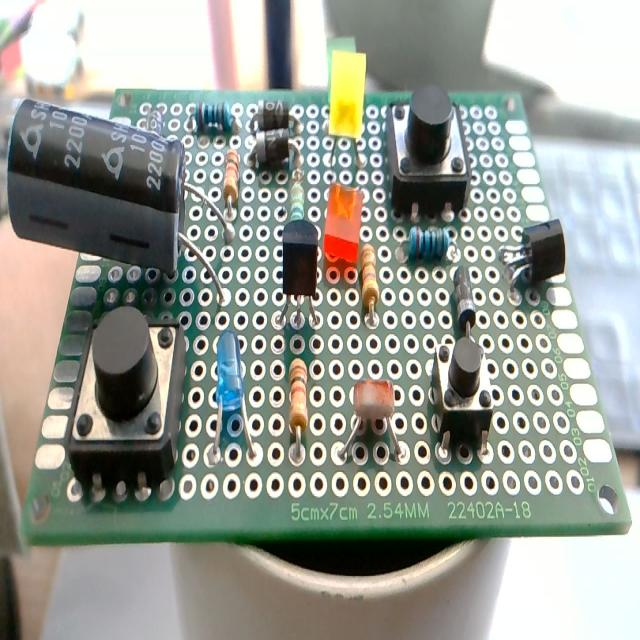Electrolytic capacitor: (8, 101, 230, 306)
cds: (338, 379, 407, 467)
diode: (251, 127, 290, 167), (454, 265, 476, 332), (256, 99, 289, 132)
led: (209, 329, 259, 464), (324, 47, 368, 168), (322, 184, 363, 272)
resistor: (360, 243, 381, 326), (289, 357, 308, 439), (408, 226, 451, 261), (196, 100, 234, 132), (223, 148, 240, 208), (289, 178, 307, 228)
switch: (65, 309, 188, 490), (386, 86, 473, 221), (431, 331, 495, 453)
transistor: (276, 218, 324, 332), (496, 217, 568, 291)
